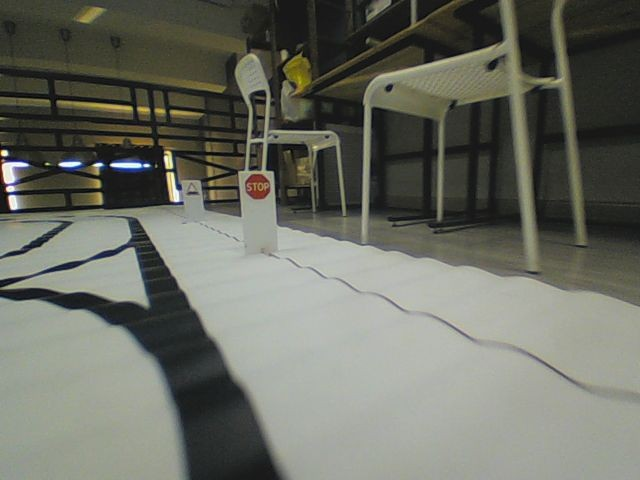Nerov: (185, 181, 199, 196)
Stop: (243, 172, 271, 200)
